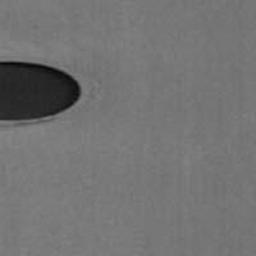Punching: (0, 60, 83, 122)
